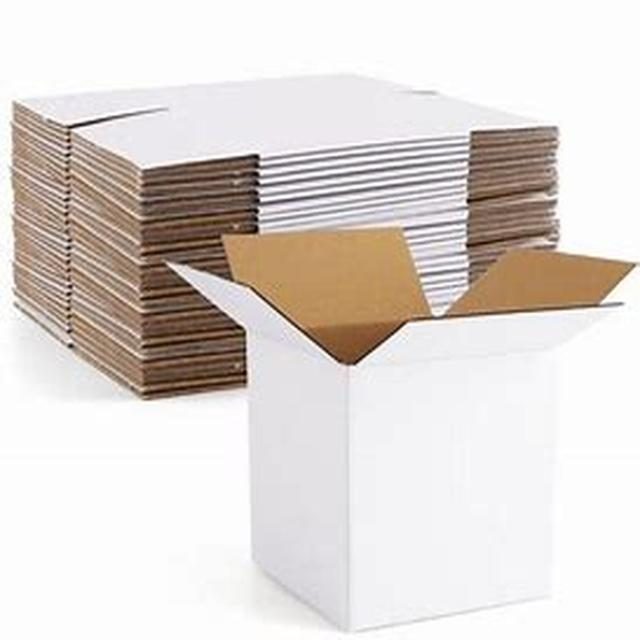box: (11, 105, 559, 397), (243, 302, 565, 626), (230, 236, 639, 358), (30, 75, 533, 167)
